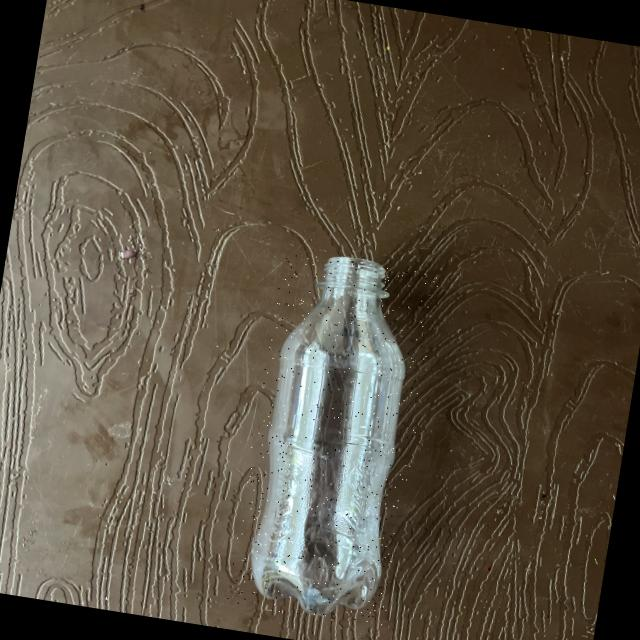PET_ClearBottle: (227, 250, 440, 629)
